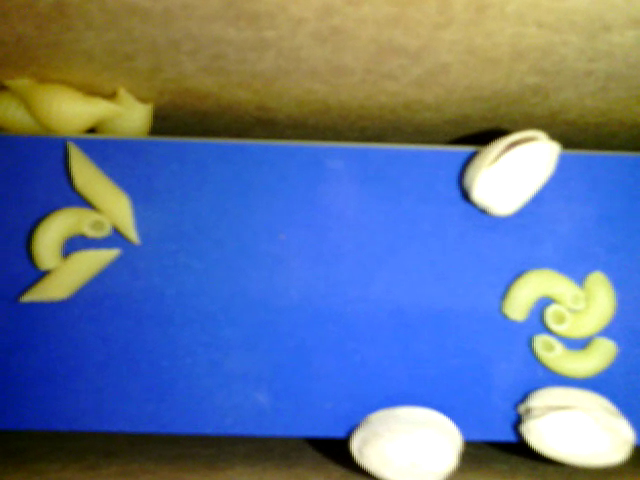elbow: (28, 205, 110, 272), (544, 266, 618, 339), (502, 266, 592, 321), (530, 333, 619, 378)
penne: (69, 140, 140, 248), (20, 250, 119, 305)
shell: (1, 72, 126, 136), (88, 82, 153, 141), (1, 87, 54, 135)
